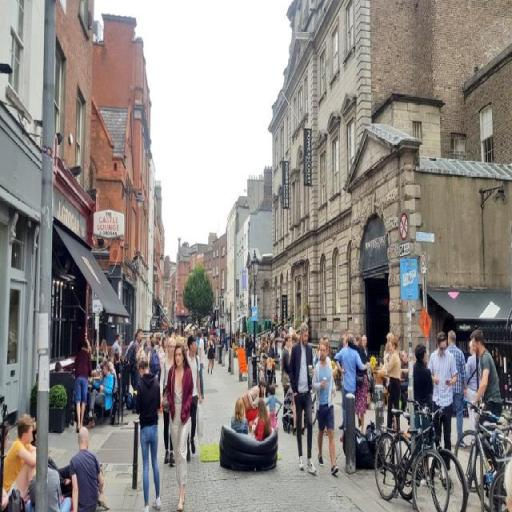person: (471, 329, 507, 502), (1, 413, 51, 512), (428, 333, 460, 486), (168, 340, 196, 512), (137, 351, 164, 512), (290, 323, 318, 477), (334, 336, 369, 443), (313, 341, 339, 476), (410, 345, 434, 479), (69, 426, 106, 512), (447, 329, 469, 449), (162, 338, 179, 469), (186, 336, 203, 464), (383, 341, 403, 443), (351, 336, 370, 439), (236, 381, 269, 436), (467, 339, 483, 450), (89, 366, 117, 429), (76, 343, 92, 435), (131, 328, 144, 415), (254, 400, 275, 444), (282, 336, 294, 413), (231, 396, 251, 440), (267, 386, 284, 431), (198, 330, 207, 401), (208, 335, 215, 376)
